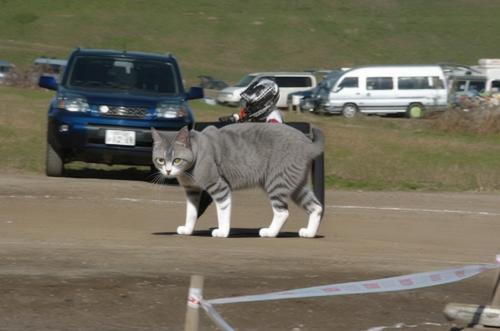car: (38, 46, 207, 179), (319, 63, 451, 120), (217, 71, 319, 108)
cat: (145, 122, 324, 237)
person: (202, 78, 293, 237)
person/foot: (204, 217, 229, 236)
person/hand: (216, 116, 233, 132), (228, 160, 246, 175)
person/head: (241, 78, 281, 122)
